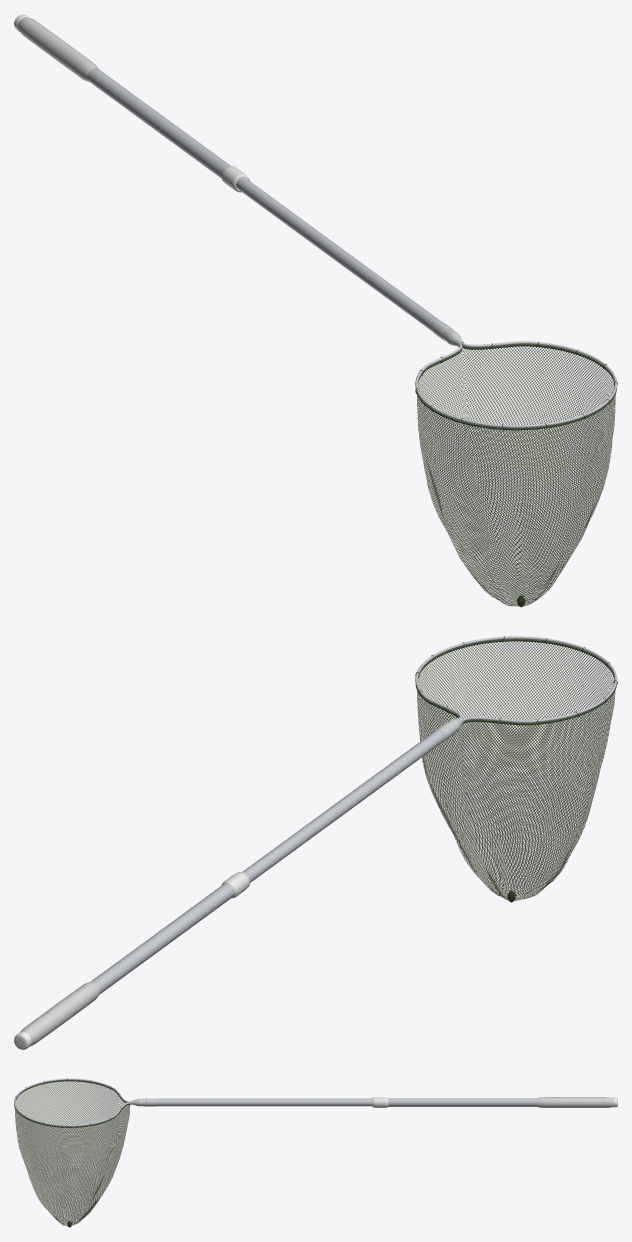
The model's file is net_deep.lod1.glb.
3 renders of one model, top to bottom at view 1: azimuth 30°, elevation 25°; view 2: azimuth 150°, elevation 25°; view 3: azimuth 270°, elevation 25°, orthographic. The views are drawn at different scales.
Parts seen in each view (by area): view 1: Bag, Handle, Handle_Inner, Frame; view 2: Bag, Handle, Handle_Inner, Frame; view 3: Bag, Handle, Handle_Inner, Frame.
Boxes of the visible parts, <box> form: Bag: <box>417,346,615,607</box>; Handle: <box>14,14,249,192</box>; Handle_Inner: <box>236,177,450,339</box>; Frame: <box>415,327,617,430</box>; Bag: <box>417,641,615,902</box>; Handle: <box>14,872,250,1049</box>; Handle_Inner: <box>242,724,453,882</box>; Frame: <box>415,636,617,735</box>; Bag: <box>15,1081,130,1227</box>; Handle: <box>372,1097,617,1107</box>; Handle_Inner: <box>146,1098,372,1106</box>; Frame: <box>14,1078,145,1127</box>.
Bounding box in the file's own units: 0.3573 × 0.452 × 1.92.
8 materials, 8 textured.
